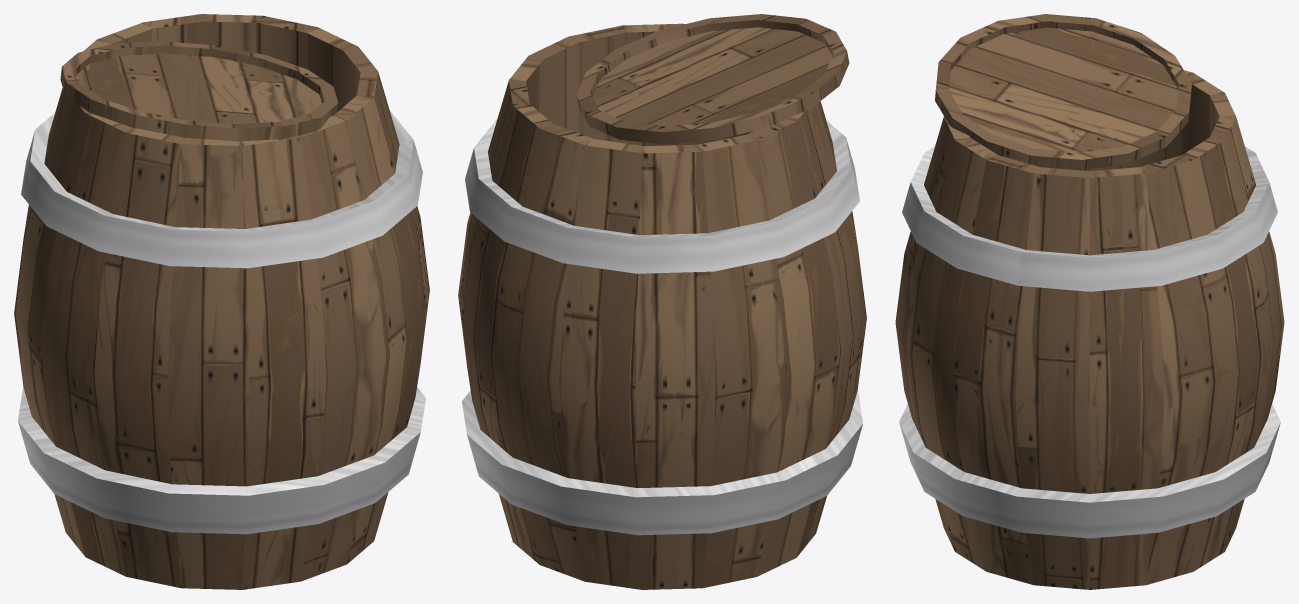
Rendered from GunpowerBarrel.glb.
3 renders of one model, left to right at view 1: azimuth 30°, elevation 25°; view 2: azimuth 150°, elevation 25°; view 3: azimuth 270°, elevation 25°, orthographic. The views are drawn at different scales.
Visible parts, largest first — view 1: Cylinder; view 2: Cylinder; view 3: Cylinder.
Part boxes in pixels (bbox=[...]): Cylinder: bbox=[14, 14, 429, 589]; Cylinder: bbox=[458, 14, 866, 589]; Cylinder: bbox=[895, 14, 1284, 589].
Bounding box in the file's own units: 0.8562 × 1.08 × 0.8562.
2 materials, 2 textured.
